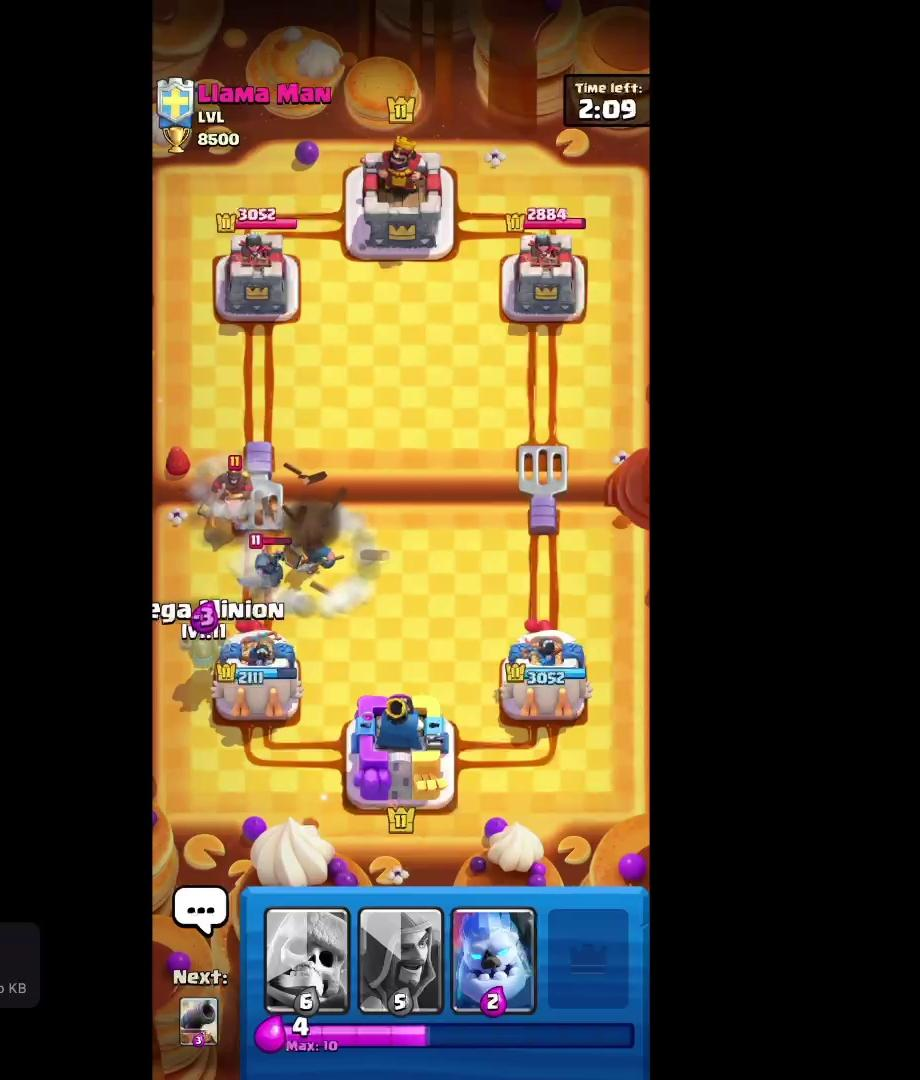Hog Rider: (199, 453, 259, 515)
Mini Pekka: (231, 526, 306, 598)
